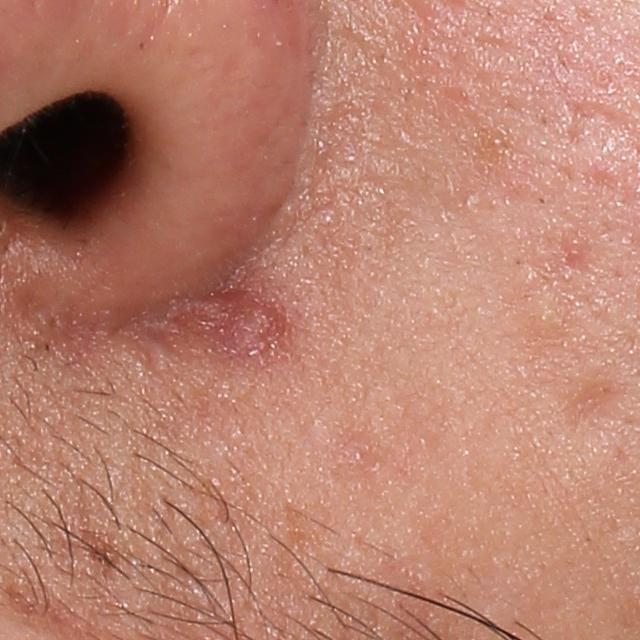atrophic_scar: (553, 369, 627, 456), (555, 90, 633, 156), (3, 576, 60, 630)
comedo: (527, 297, 565, 333)
